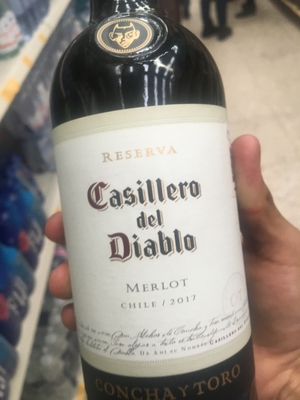casillero del diablo merlot: (48, 11, 263, 400)
